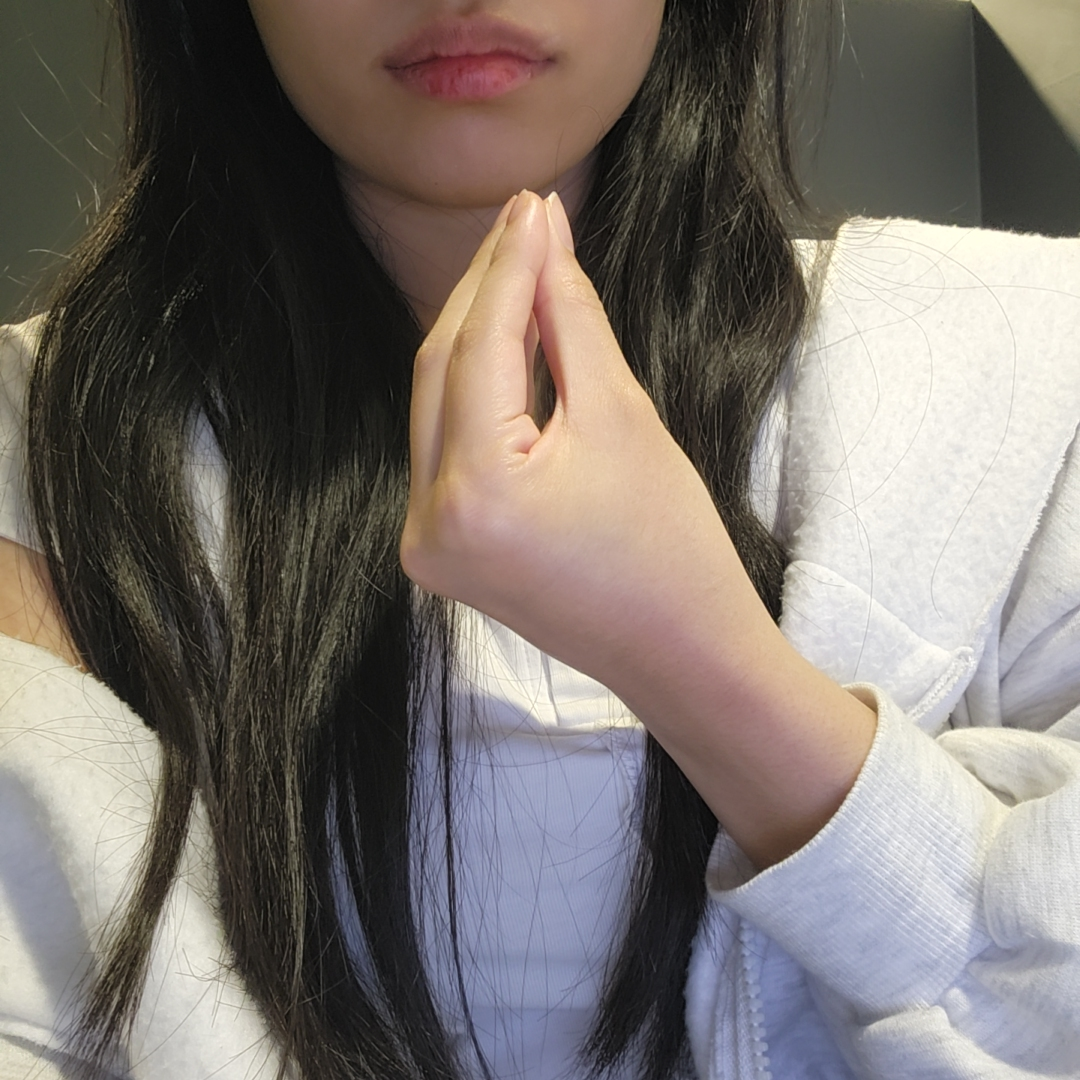happy: (395, 188, 736, 712)
